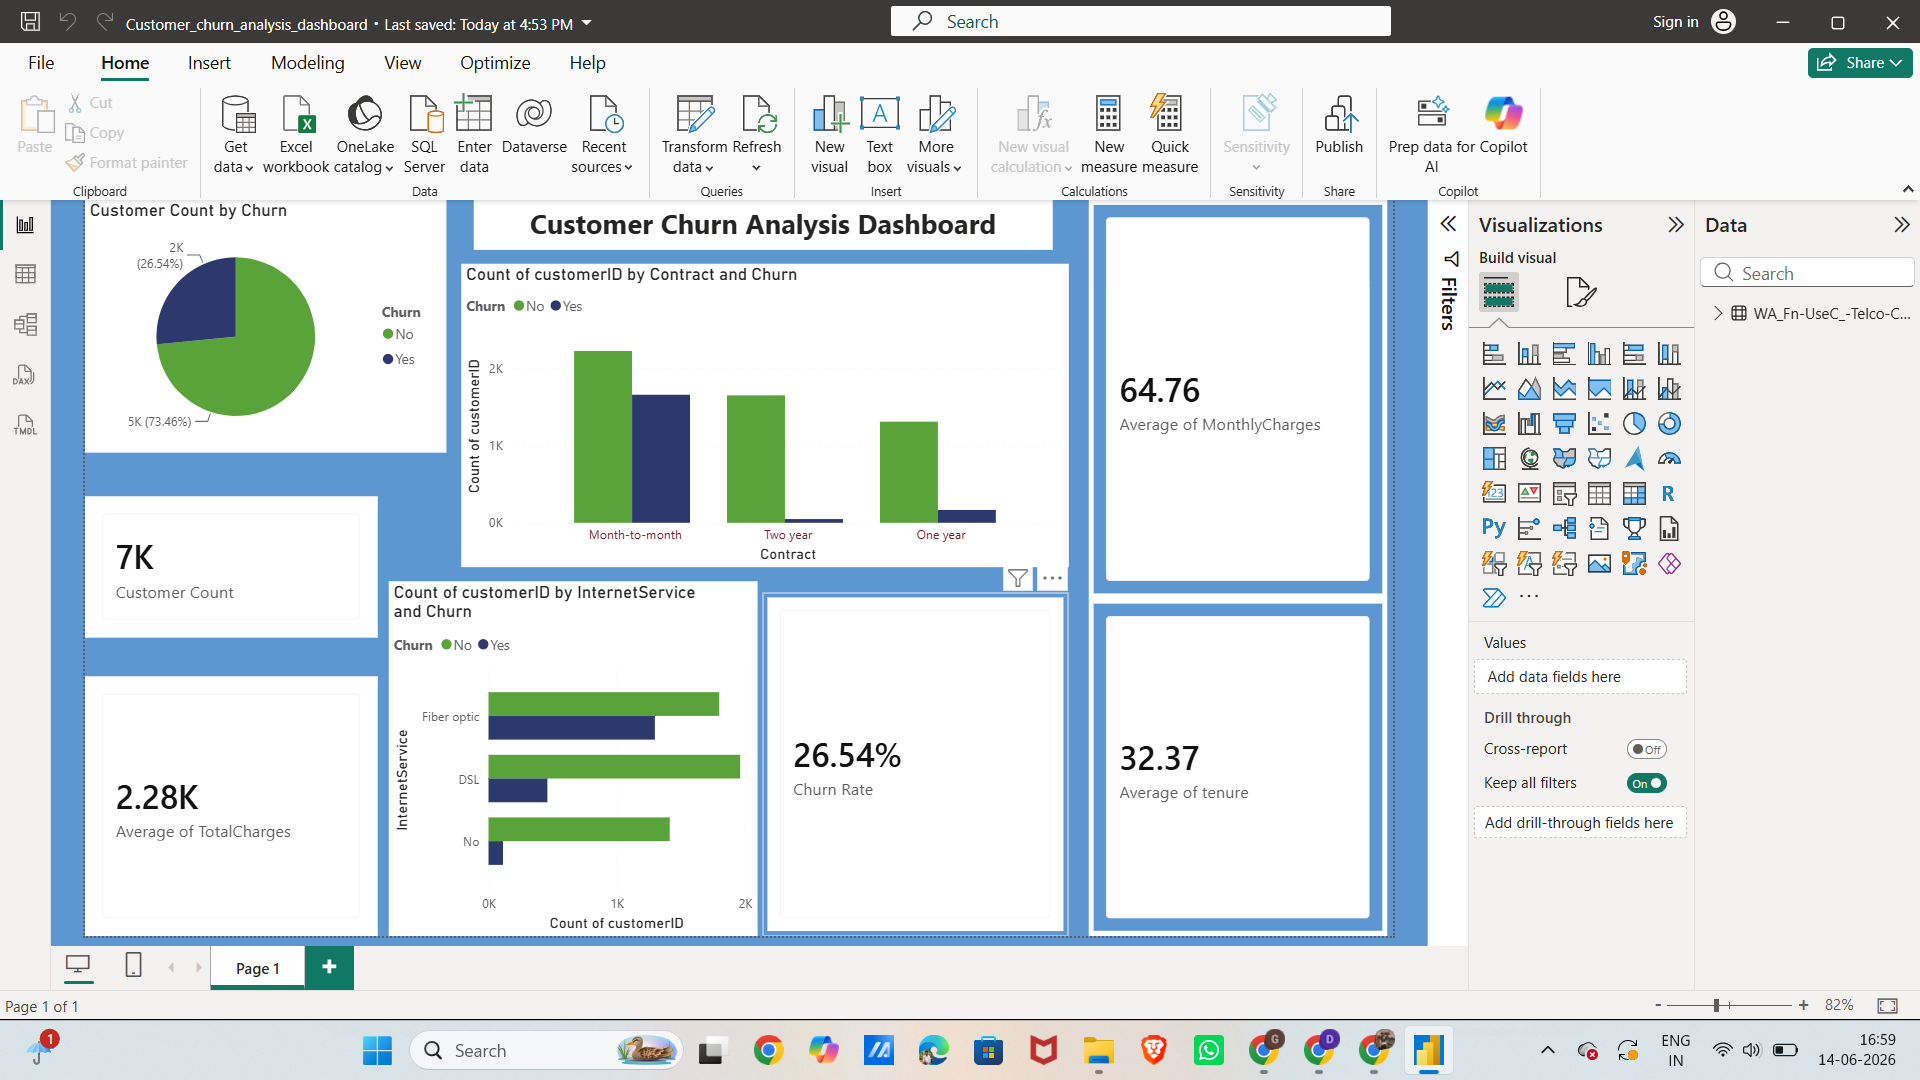

The page's visual inventory and layout, read from the dashboard file:
{"tool":"powerbi","page":{"name":"Page 1","canvas":[1280,720],"ordinal":0},"visuals":[{"type":"pieChart","fields":{"Category":["WA_Fn-UseC_-Telco-Customer-Churn.Churn"],"Y":["WA_Fn-UseC_-Telco-Customer-Churn.Customer Count"]},"box":[0,0,353.4,247],"z":0},{"type":"cardVisual","fields":{"Data":["WA_Fn-UseC_-Telco-Customer-Churn.Customer Count"]},"box":[0,289.8,286.1,138.2],"z":1000},{"type":"clusteredColumnChart","fields":{"Category":["WA_Fn-UseC_-Telco-Customer-Churn.Contract"],"Series":["WA_Fn-UseC_-Telco-Customer-Churn.Churn"],"Y":["CountNonNull(WA_Fn-UseC_-Telco-Customer-Churn.customerID)"]},"box":[368.1,62.4,594.3,297.1],"z":2000},{"type":"cardVisual","fields":{"Data":["Avg(WA_Fn-UseC_-Telco-Customer-Churn.MonthlyCharges)"]},"box":[981.9,0,292.3,390.1],"z":3000},{"type":"cardVisual","fields":{"Data":["Avg(WA_Fn-UseC_-Telco-Customer-Churn.tenure)"]},"box":[981.9,390.1,292.3,330.2],"z":4000},{"type":"clusteredBarChart","fields":{"Series":["WA_Fn-UseC_-Telco-Customer-Churn.Churn"],"Y":["CountNonNull(WA_Fn-UseC_-Telco-Customer-Churn.customerID)"],"Category":["WA_Fn-UseC_-Telco-Customer-Churn.InternetService"]},"box":[297.1,373,360.7,347.3],"z":5000},{"type":"cardVisual","fields":{"Data":["Avg(WA_Fn-UseC_-Telco-Customer-Churn.TotalCharges)"]},"box":[0,465.9,286.1,254.3],"z":6000},{"type":"cardVisual","fields":{"Data":["WA_Fn-UseC_-Telco-Customer-Churn.Churn Rate"]},"box":[662.8,384,299.6,336.3],"z":7000},{"type":"textbox","box":[380.3,0,566.2,48.9],"z":8000}]}

Visuals, with their boxes on the page's 1280x720 design canvas (x1, y1, x2, y2). These are canvas units, not pixel positions in the 1920x1080 screenshot, which may show the page scaled, cropped or inside an application window:
pieChart - WA_Fn-UseC_-Telco-Customer-Churn.Churn x WA_Fn-UseC_-Telco-Customer-Churn.Customer Count: (left=0, top=0, right=353, bottom=247)
cardVisual - WA_Fn-UseC_-Telco-Customer-Churn.Customer Count: (left=0, top=290, right=286, bottom=428)
clusteredColumnChart - WA_Fn-UseC_-Telco-Customer-Churn.Contract x WA_Fn-UseC_-Telco-Customer-Churn.Churn: (left=368, top=62, right=962, bottom=360)
cardVisual - Avg(WA_Fn-UseC_-Telco-Customer-Churn.MonthlyCharges): (left=982, top=0, right=1274, bottom=390)
cardVisual - Avg(WA_Fn-UseC_-Telco-Customer-Churn.tenure): (left=982, top=390, right=1274, bottom=720)
clusteredBarChart - WA_Fn-UseC_-Telco-Customer-Churn.Churn x CountNonNull(WA_Fn-UseC_-Telco-Customer-Churn.customerID): (left=297, top=373, right=658, bottom=720)
cardVisual - Avg(WA_Fn-UseC_-Telco-Customer-Churn.TotalCharges): (left=0, top=466, right=286, bottom=720)
cardVisual - WA_Fn-UseC_-Telco-Customer-Churn.Churn Rate: (left=663, top=384, right=962, bottom=720)
textbox: (left=380, top=0, right=946, bottom=49)
